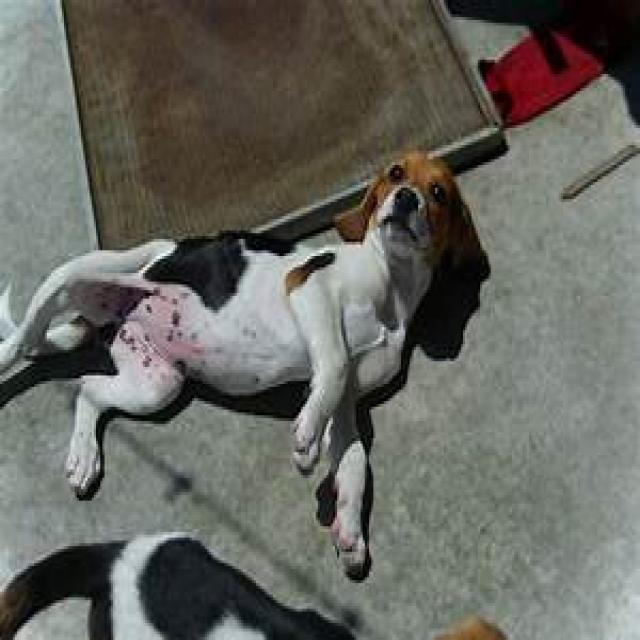dog: (0, 145, 489, 580)
